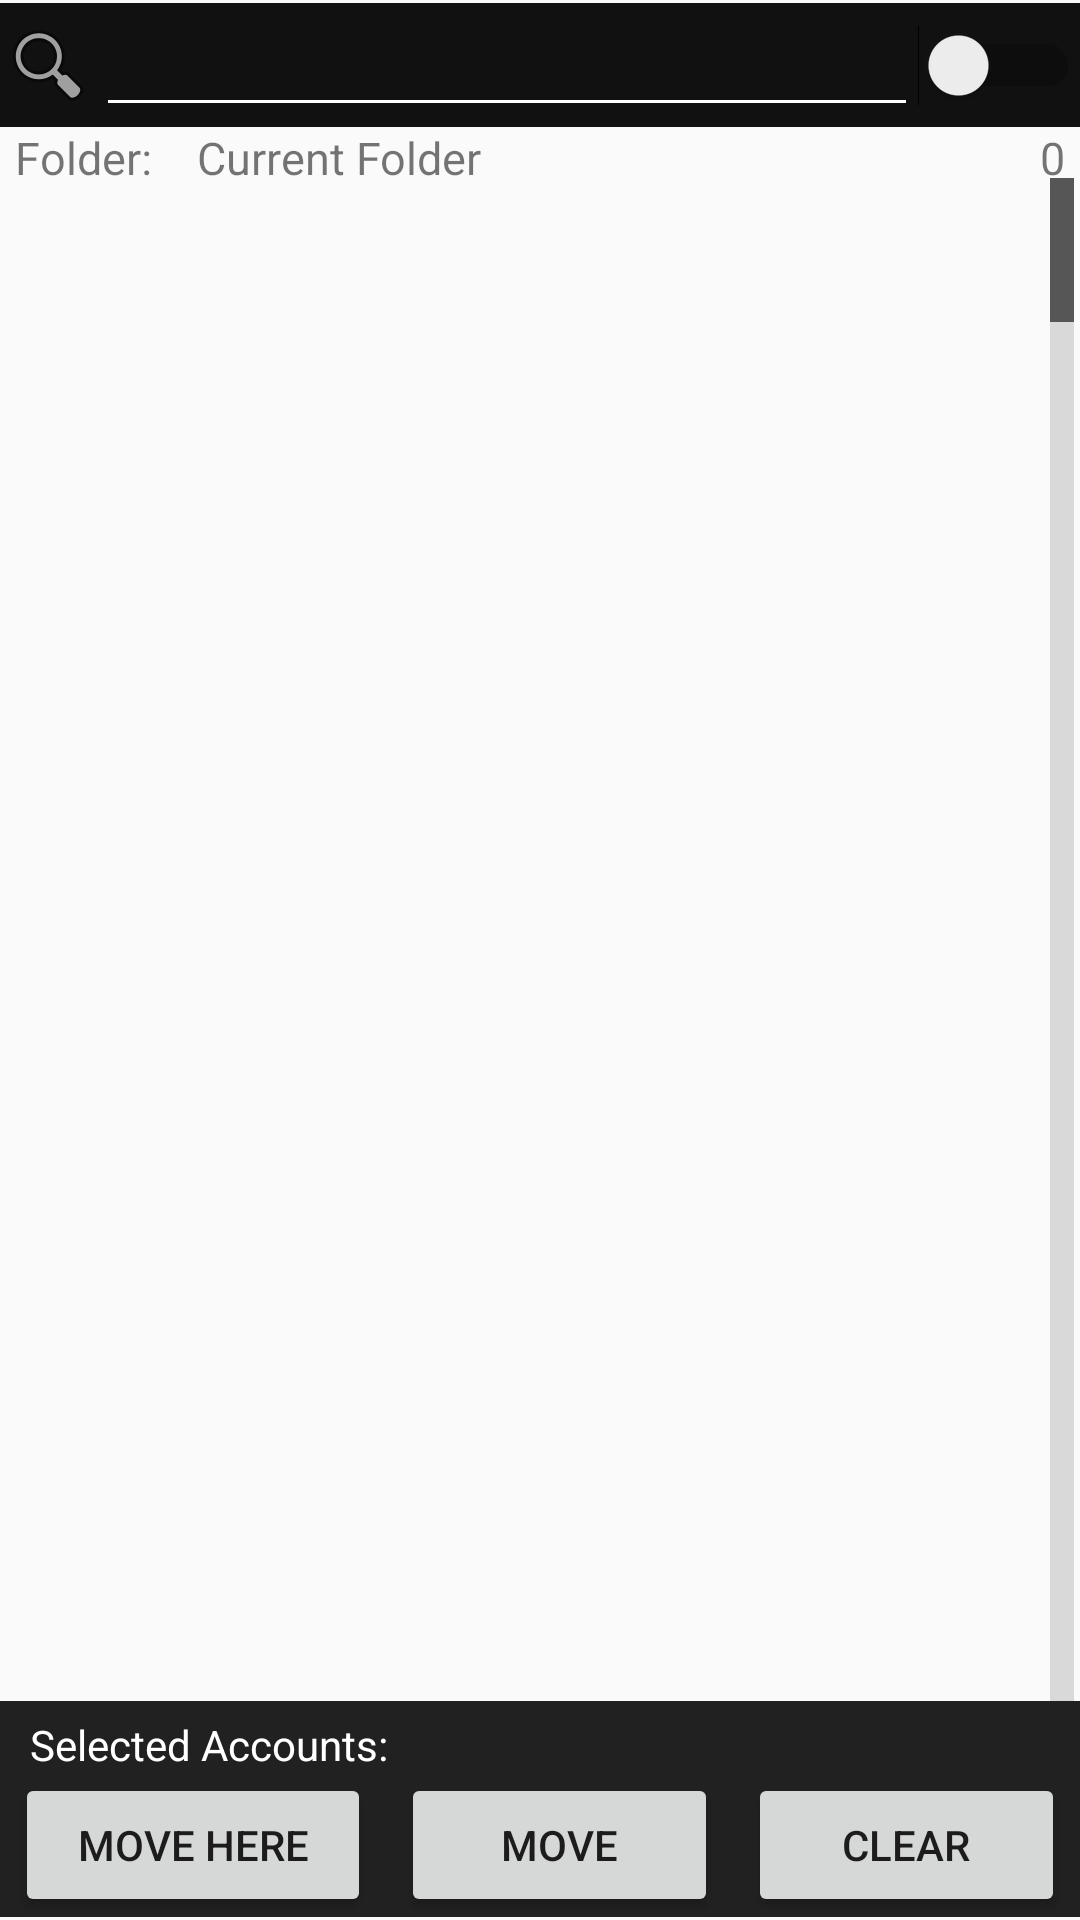

Locate icon controls on the screen. Image size 1080w x 1920h, boxes as (x1, y1, x2, y2).
search: (15, 33, 80, 98)
